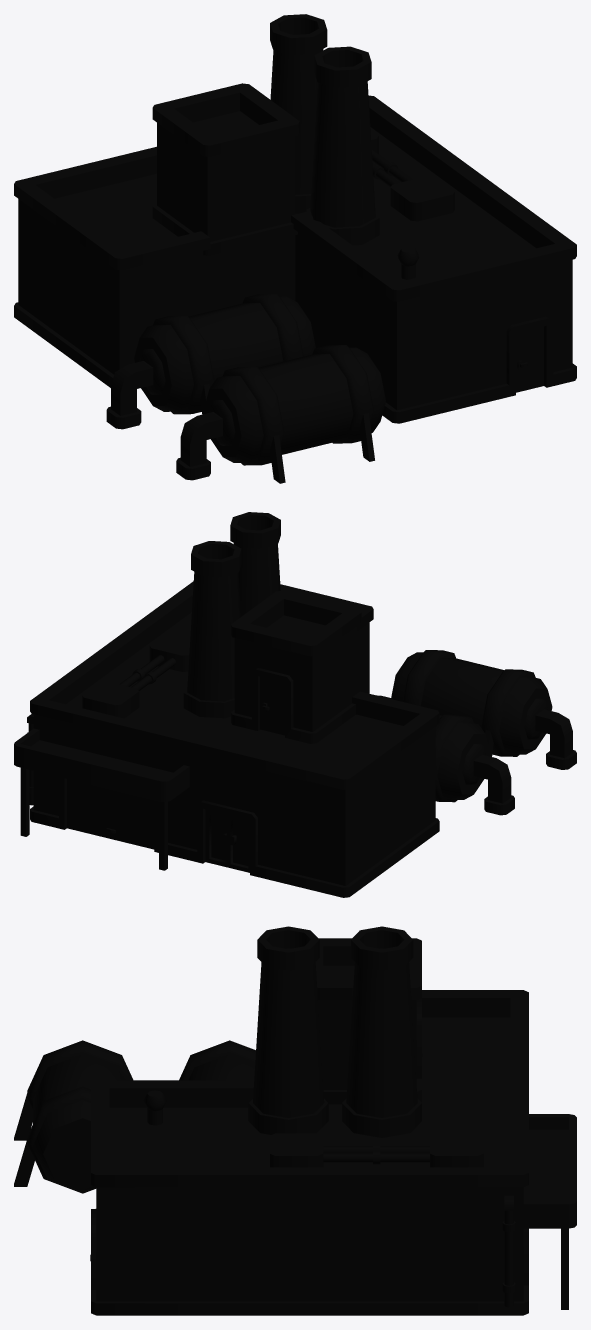
Rendered from building-c.glb.
3 views of the same model, one above another, from view 1: azimuth 30°, elevation 25°; view 2: azimuth 150°, elevation 25°; view 3: azimuth 270°, elevation 25° (orthographic). The views are drawn at different scales.
Visible parts, largest first — view 1: building-c; view 2: building-c; view 3: building-c.
Part boxes in pixels (box(x1,y1,x2,y2)): building-c: box(14, 14, 576, 483); building-c: box(14, 512, 576, 897); building-c: box(14, 926, 576, 1315).
Size of the model in its own units: 1.88 by 1.25 by 2.11.
1 material, 1 textured.
